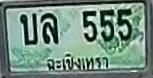5: (116, 8, 132, 41), (99, 9, 114, 42), (82, 10, 96, 41)
A26: (19, 12, 37, 44)
A36: (40, 12, 58, 43)
CCO: (44, 52, 112, 72)
